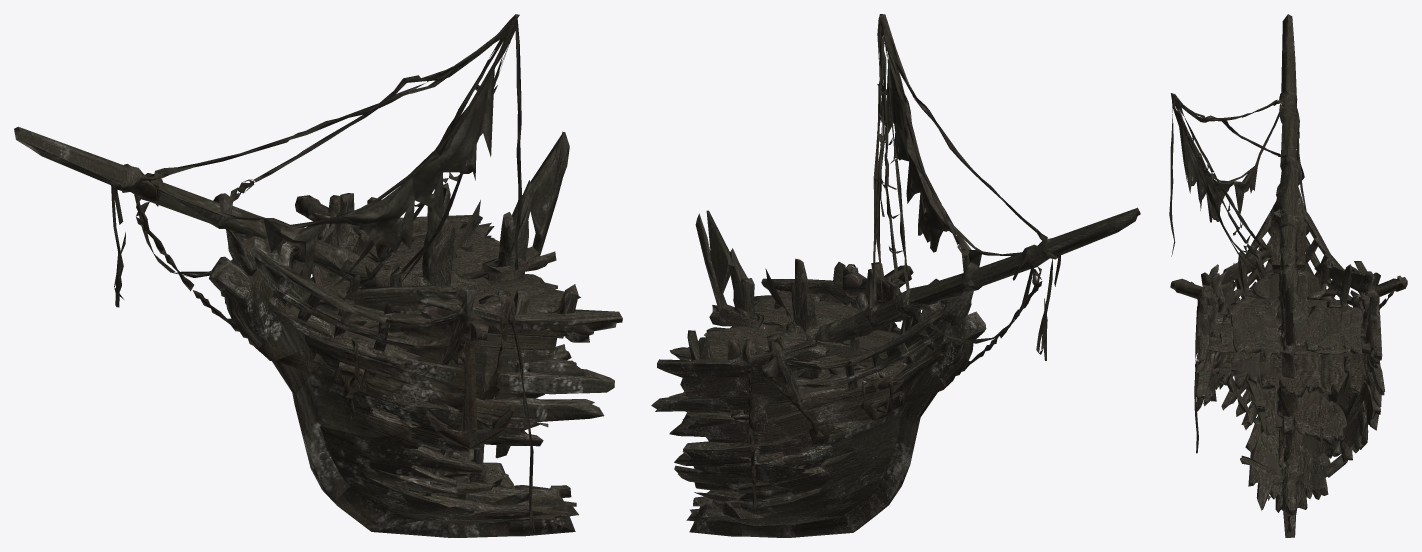
3 views of the same model, side by side, from view 1: azimuth 30°, elevation 25°; view 2: azimuth 150°, elevation 25°; view 3: azimuth 270°, elevation 25° (orthographic). The views are drawn at different scales.
Visible parts, largest first — view 1: mesh_node; view 2: mesh_node; view 3: mesh_node.
Boxes of the visible parts, x1=… form: mesh_node: x1=14, y1=14, x2=622, y2=537; mesh_node: x1=651, y1=14, x2=1140, y2=537; mesh_node: x1=1169, y1=14, x2=1407, y2=537.
Bounding box in the file's own units: 1.82 × 1.89 × 1.03.
Materials: 1 (1 with a texture image).
